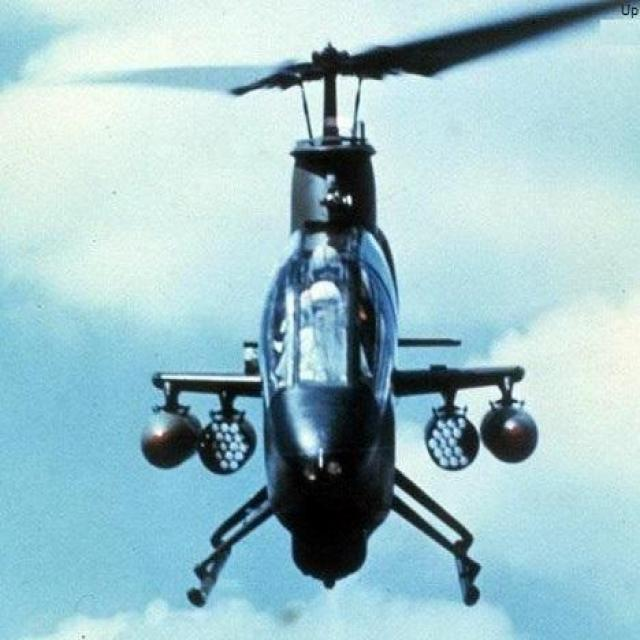MIL_HELO: (23, 0, 640, 607)
